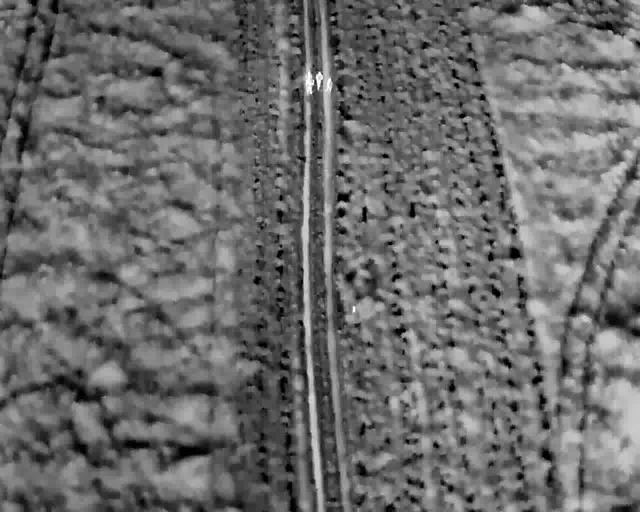person: (314, 69, 324, 92), (325, 74, 335, 93), (305, 77, 315, 96), (304, 69, 314, 88)
